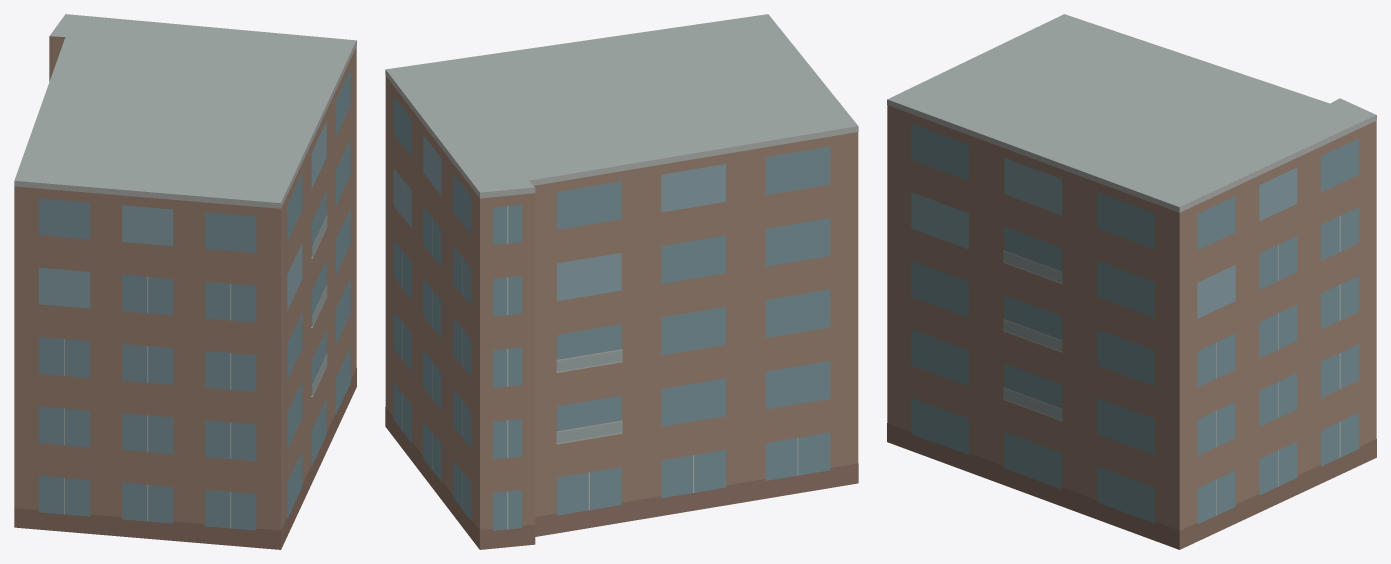
The model's file is survey-upis-32679715.glb.
The picture shows the model from 3 angles, left to right: view 1: azimuth 30°, elevation 25°; view 2: azimuth 150°, elevation 25°; view 3: azimuth 270°, elevation 25°; orthographic projection. The views are drawn at different scales.
Visible parts, largest first — view 1: survey-upis-32679715.tmp; view 2: survey-upis-32679715.tmp; view 3: survey-upis-32679715.tmp.
Boxes of the visible parts, x1,y1,x2,y2 form: survey-upis-32679715.tmp: [14, 14, 356, 549]; survey-upis-32679715.tmp: [385, 14, 858, 549]; survey-upis-32679715.tmp: [887, 14, 1376, 549].
Size of the model in its own units: 18.15 by 15 by 19.43.
